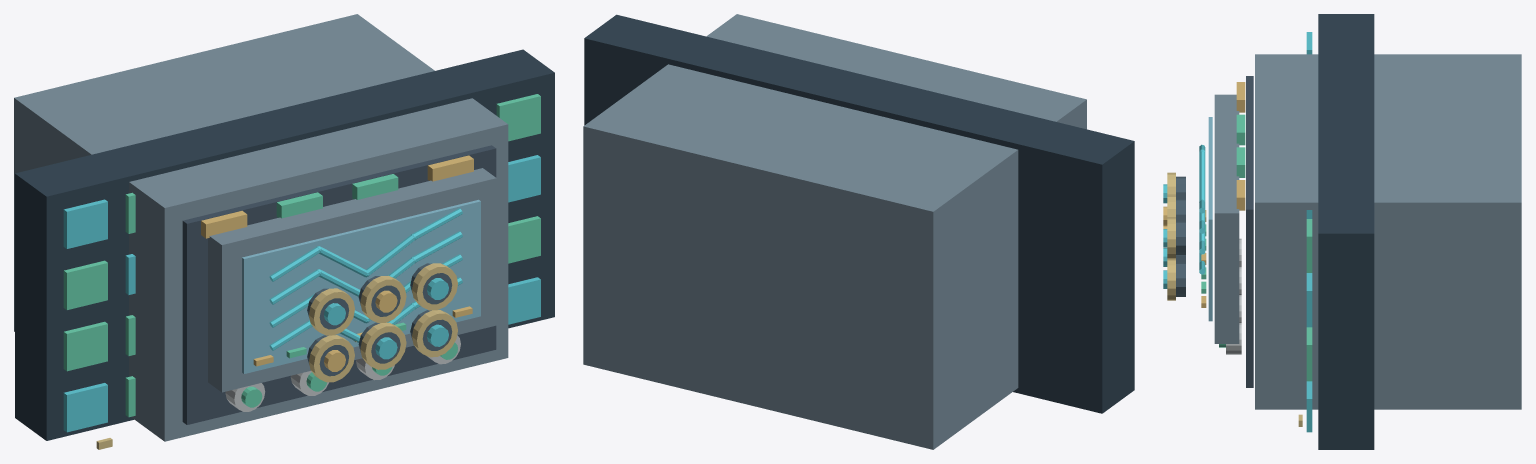
The model's file is 44_L81_PacketSequenceNumberMonitor.glb.
The picture shows the model from 3 angles, left to right: view 1: azimuth 30°, elevation 25°; view 2: azimuth 150°, elevation 25°; view 3: azimuth 270°, elevation 25°; orthographic projection. The views are drawn at different scales.
Parts seen in each view (by area): view 1: PacketSequenceNumberMonitor_Node_0000, PacketSequenceNumberMonitor_Node_0051, PacketSequenceNumberMonitor_Node_0007, PacketSequenceNumberMonitor_Node_0006, PacketSequenceNumberMonitor_Node_0001, PacketSequenceNumberMonitor_Node_0076, PacketSequenceNumberMonitor_Node_0052, PacketSequenceNumberMonitor_Node_0060, PacketSequenceNumberMonitor_Node_0068, PacketSequenceNumberMonitor_Node_0083, PacketSequenceNumberMonitor_Node_0067, PacketSequenceNumberMonitor_Node_0059 (+11 smaller); view 2: PacketSequenceNumberMonitor_Node_0000, PacketSequenceNumberMonitor_Node_0051; view 3: PacketSequenceNumberMonitor_Node_0000, PacketSequenceNumberMonitor_Node_0051, PacketSequenceNumberMonitor_Node_0006, PacketSequenceNumberMonitor_Node_0001, PacketSequenceNumberMonitor_Node_0007, PacketSequenceNumberMonitor_Node_0106, PacketSequenceNumberMonitor_Node_0097, PacketSequenceNumberMonitor_Node_0059.
Boxes of the visible parts, x1=… form: PacketSequenceNumberMonitor_Node_0000: x1=14, y1=14, x2=508, y2=441; PacketSequenceNumberMonitor_Node_0051: x1=15, y1=49, x2=554, y2=440; PacketSequenceNumberMonitor_Node_0007: x1=242, y1=199, x2=480, y2=373; PacketSequenceNumberMonitor_Node_0006: x1=208, y1=168, x2=496, y2=392; PacketSequenceNumberMonitor_Node_0001: x1=182, y1=145, x2=496, y2=424; PacketSequenceNumberMonitor_Node_0076: x1=63, y1=199, x2=107, y2=248; PacketSequenceNumberMonitor_Node_0052: x1=63, y1=383, x2=107, y2=432; PacketSequenceNumberMonitor_Node_0060: x1=63, y1=321, x2=107, y2=371; PacketSequenceNumberMonitor_Node_0068: x1=63, y1=260, x2=107, y2=309; PacketSequenceNumberMonitor_Node_0083: x1=496, y1=94, x2=540, y2=141; PacketSequenceNumberMonitor_Node_0067: x1=508, y1=216, x2=540, y2=263; PacketSequenceNumberMonitor_Node_0059: x1=508, y1=277, x2=540, y2=324; PacketSequenceNumberMonitor_Node_0000: x1=583, y1=14, x2=1086, y2=449; PacketSequenceNumberMonitor_Node_0051: x1=584, y1=14, x2=1134, y2=413; PacketSequenceNumberMonitor_Node_0000: x1=1255, y1=54, x2=1521, y2=409; PacketSequenceNumberMonitor_Node_0051: x1=1318, y1=14, x2=1374, y2=449; PacketSequenceNumberMonitor_Node_0006: x1=1214, y1=94, x2=1239, y2=343; PacketSequenceNumberMonitor_Node_0001: x1=1246, y1=76, x2=1253, y2=387; PacketSequenceNumberMonitor_Node_0007: x1=1208, y1=117, x2=1212, y2=321; PacketSequenceNumberMonitor_Node_0106: x1=1167, y1=217, x2=1175, y2=259; PacketSequenceNumberMonitor_Node_0097: x1=1167, y1=259, x2=1175, y2=300; PacketSequenceNumberMonitor_Node_0059: x1=1306, y1=381, x2=1312, y2=432.
Bounding box in the file's own units: 1.48 × 0.71 × 1.02.
